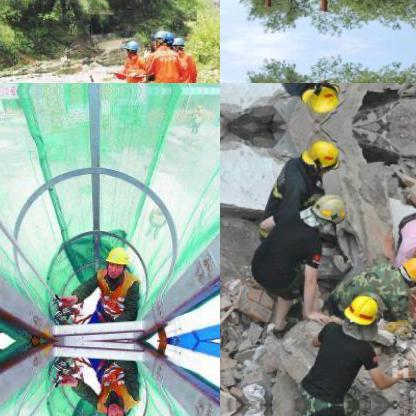Helmet: (302, 138, 342, 176), (301, 83, 343, 113), (344, 292, 378, 328), (100, 240, 130, 280), (310, 190, 344, 224), (99, 398, 131, 415), (399, 253, 415, 283), (150, 26, 172, 46), (121, 35, 136, 57), (168, 33, 182, 55)
